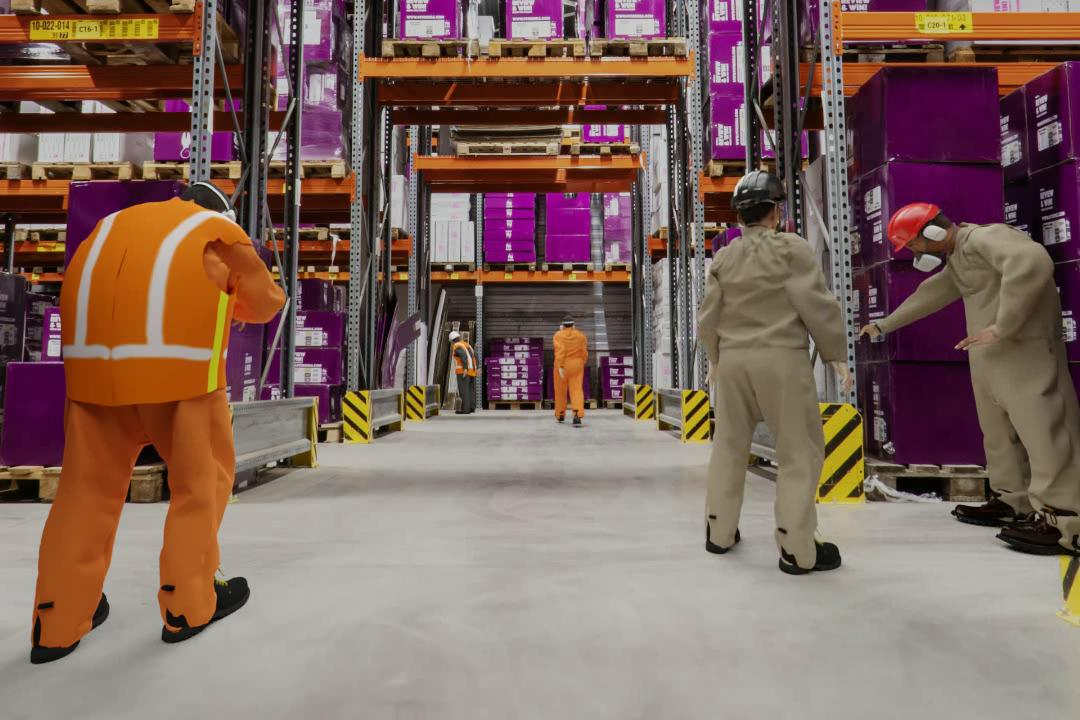Helmet: (886, 200, 952, 255), (728, 167, 788, 212), (449, 330, 460, 340)
Jacket: (69, 206, 231, 395), (451, 344, 478, 374)
Shoes: (154, 570, 255, 649), (28, 584, 113, 668), (998, 506, 1080, 558), (947, 487, 1026, 523), (779, 537, 843, 577), (702, 515, 741, 552), (573, 413, 582, 427), (455, 407, 470, 414), (556, 413, 566, 423)
